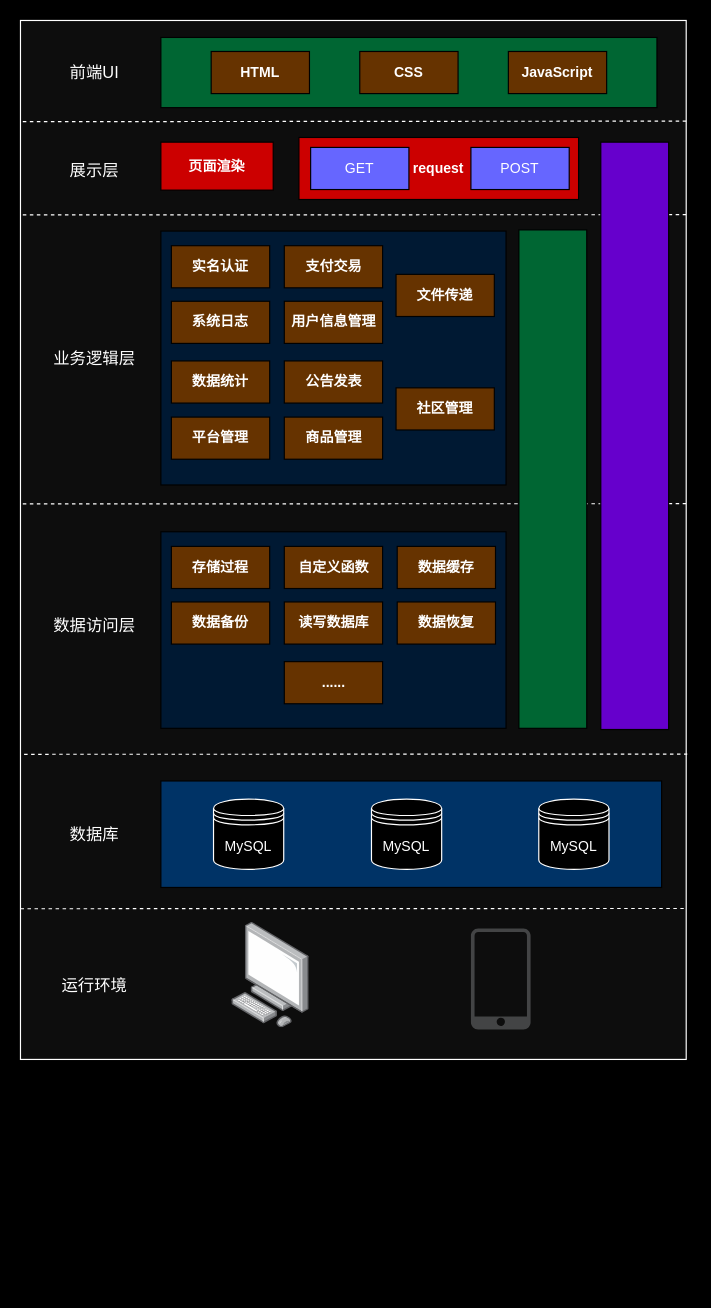
Image size: 711x1308. Some labels were removed from this diagram. The centre of each missing label's shape, as x and y in pixels:
PC: the point at 270,974
Phone: the point at 500,978
数 据 安 全 和 权 限 控 制: the point at 634,435
日 志 记 录: the point at 552,478
